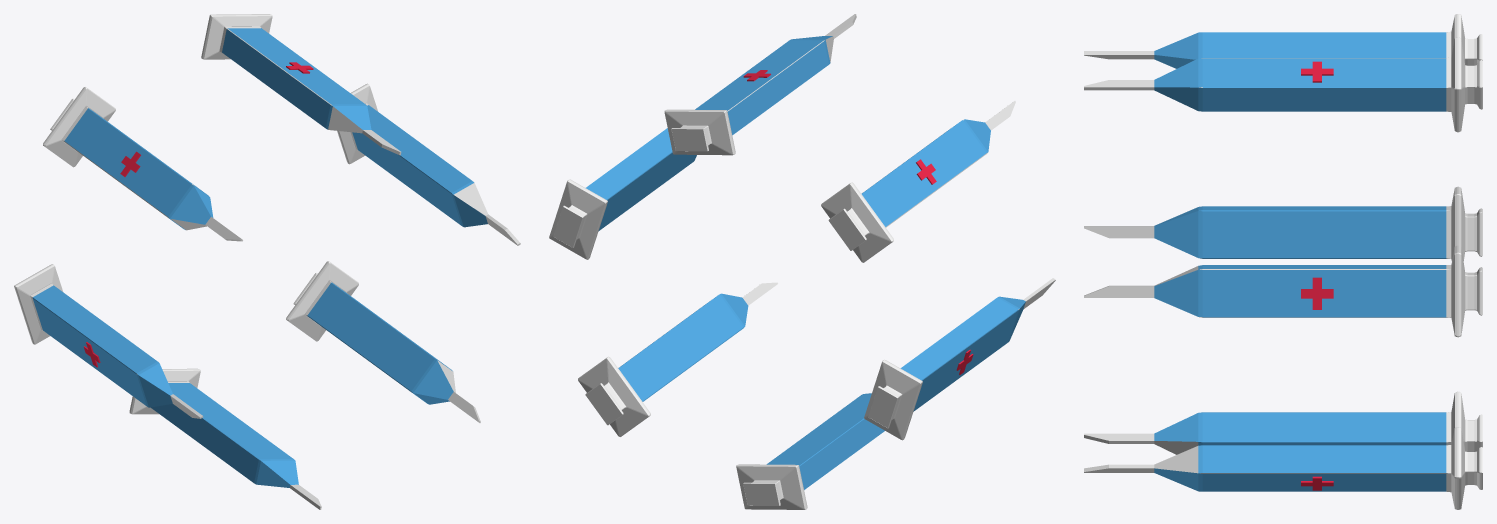
File: PacketStream_front.fbx
3 renders of one model, left to right at view 1: azimuth 30°, elevation 25°; view 2: azimuth 150°, elevation 25°; view 3: azimuth 270°, elevation 25°, orthographic. The views are drawn at different scales.
Visible parts, largest first — view 1: PacketStream_Front; view 2: PacketStream_Front; view 3: PacketStream_Front.
Boxes of the visible parts, x1,y1,x2,y2 form: PacketStream_Front: (14,14,520,509); PacketStream_Front: (549,14,1055,509); PacketStream_Front: (1084,14,1482,509).
Bounding box in the file's own units: 148 × 149 × 117.
